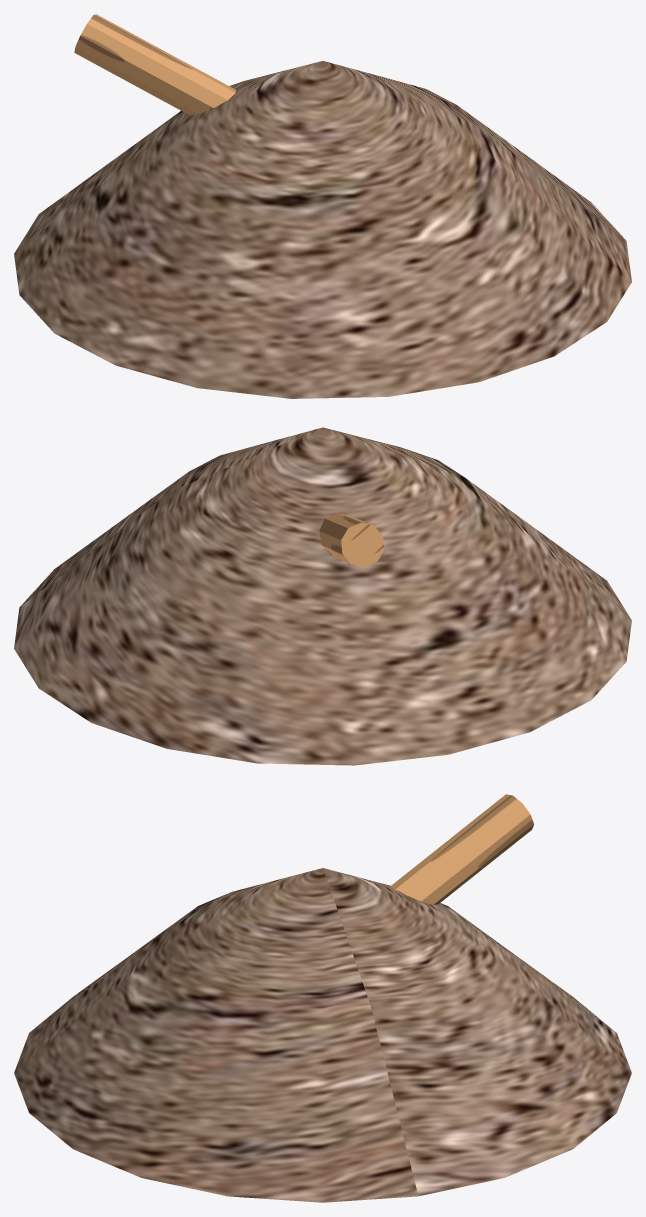
File: Garbage.fbx
The picture shows the model from 3 angles, top to bottom: view 1: azimuth 30°, elevation 25°; view 2: azimuth 150°, elevation 25°; view 3: azimuth 270°, elevation 25°; orthographic projection.
Parts seen in each view (by area): view 1: pCylinder2; view 2: pCylinder2; view 3: pCylinder2.
Part boxes in pixels (left/top/right/bottom): pCylinder2: left=14, top=14, right=631, bottom=398; pCylinder2: left=14, top=427, right=631, bottom=765; pCylinder2: left=14, top=794, right=631, bottom=1202.
Bounding box in the file's own units: 0.84 × 0.3211 × 0.8457.
Materials: 1 (1 with a texture image).
